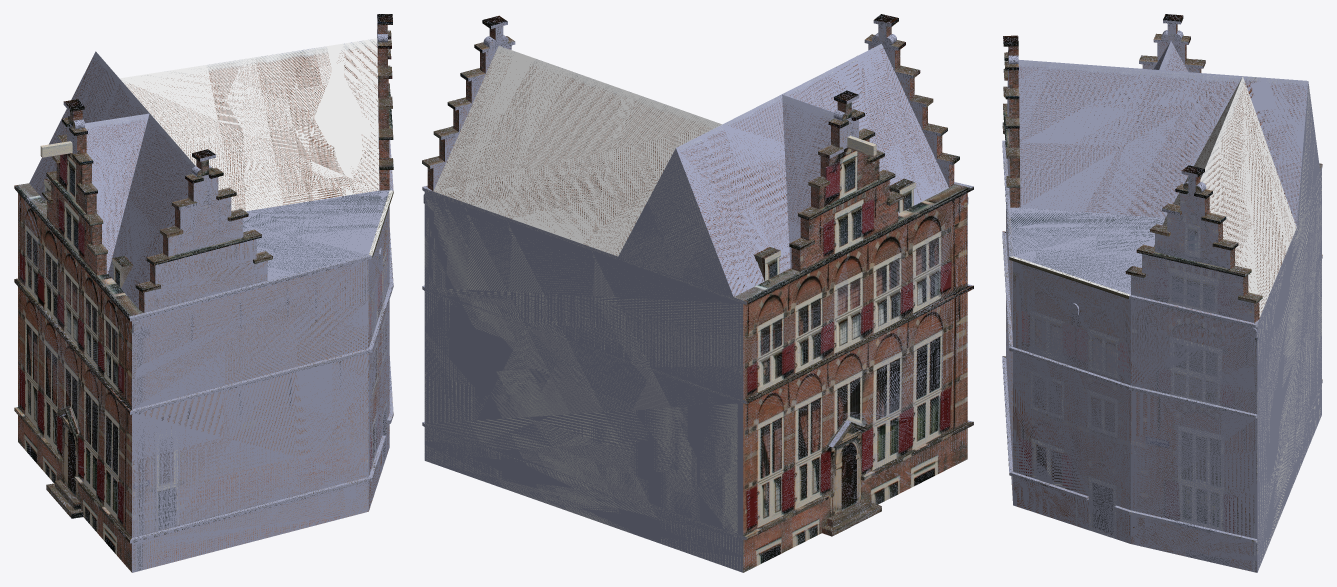
Rendered from House10.fbx.
3 renders of one model, left to right at view 1: azimuth 30°, elevation 25°; view 2: azimuth 150°, elevation 25°; view 3: azimuth 270°, elevation 25°, orthographic. The views are drawn at different scales.
Visible parts, largest first — view 1: Model; view 2: Model; view 3: Model.
Boxes of the visible parts, bbox=[...] form: Model: bbox=[14, 14, 393, 572]; Model: bbox=[422, 14, 973, 572]; Model: bbox=[1002, 14, 1322, 572].
Size of the model in its own units: 17.48 by 17.09 by 12.82.
